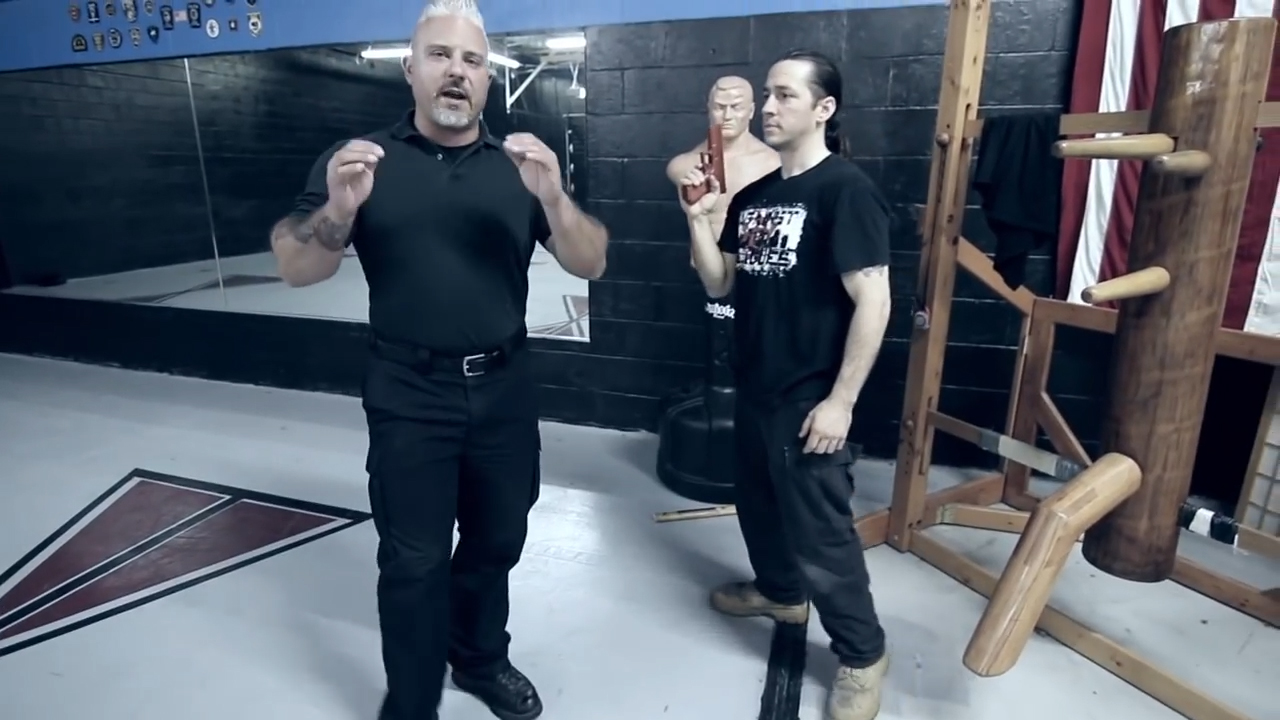pistol: (680, 123, 728, 206)
